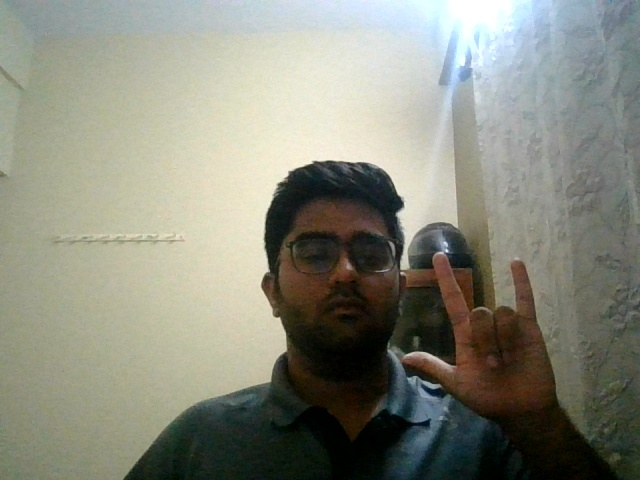I Love You: (397, 246, 613, 441)
